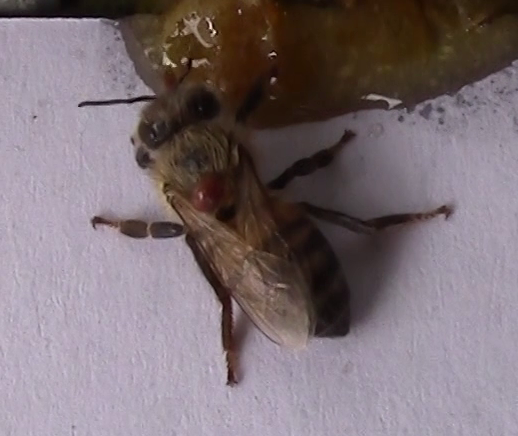Varroa destructor: (188, 170, 230, 213)
